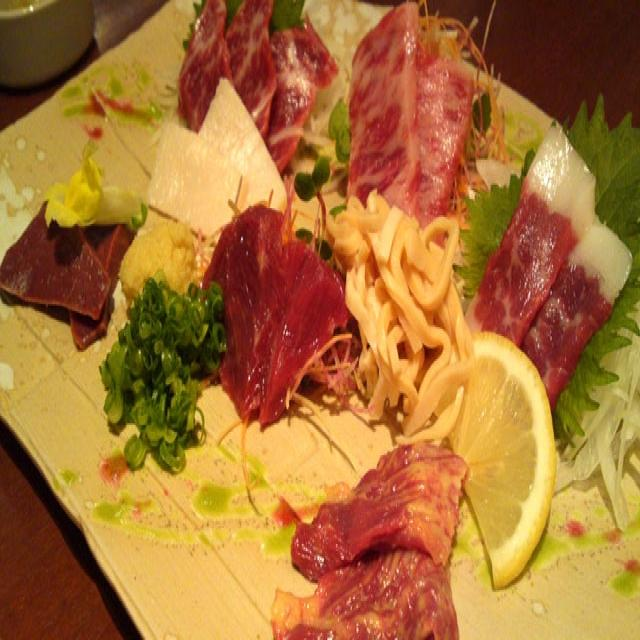刺身生食: (30, 11, 628, 634)
